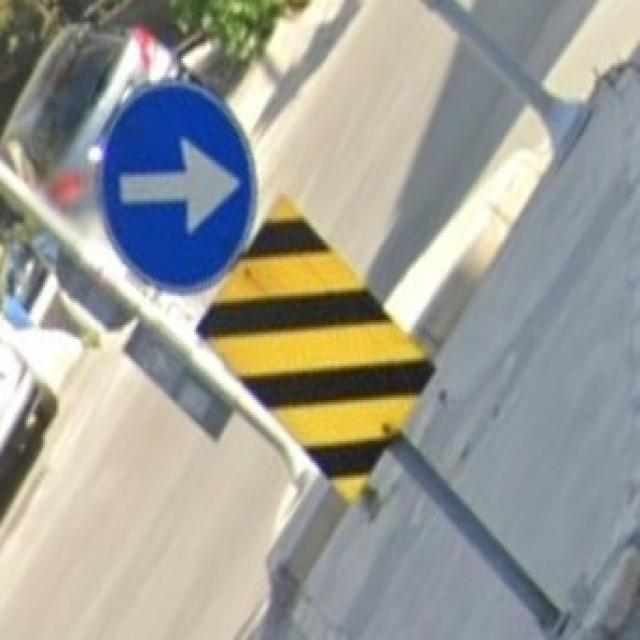Turn Right: (105, 79, 258, 290)
